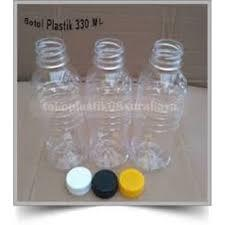BIODEGRADABLE: (27, 38, 88, 166), (139, 36, 184, 171), (90, 38, 136, 164)
